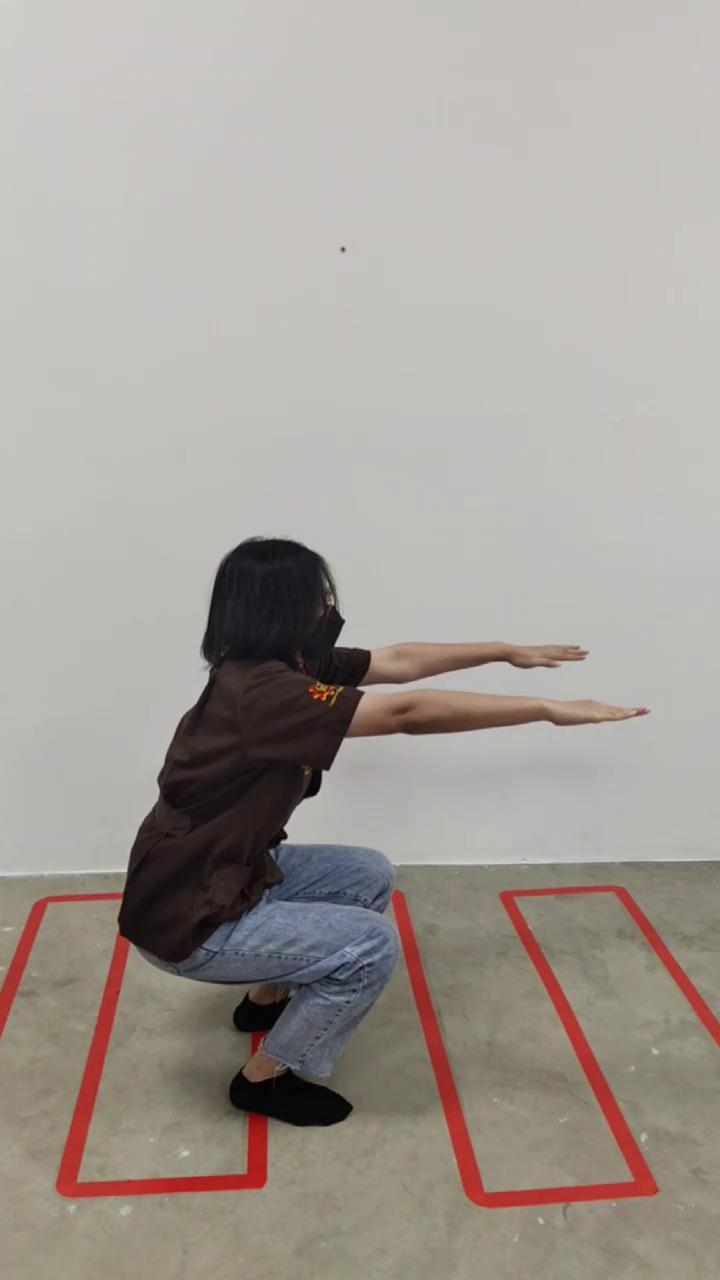squat down: (120, 538, 648, 1128)
